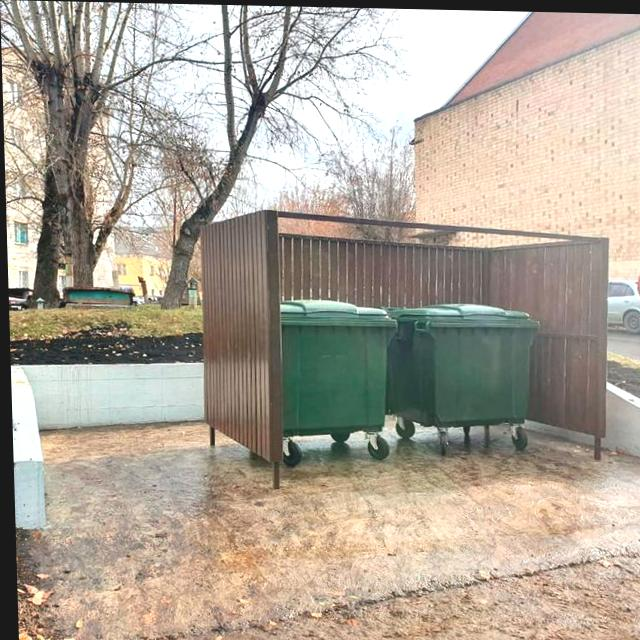Trash_Can_Closed: (390, 300, 540, 424), (279, 297, 399, 436)
